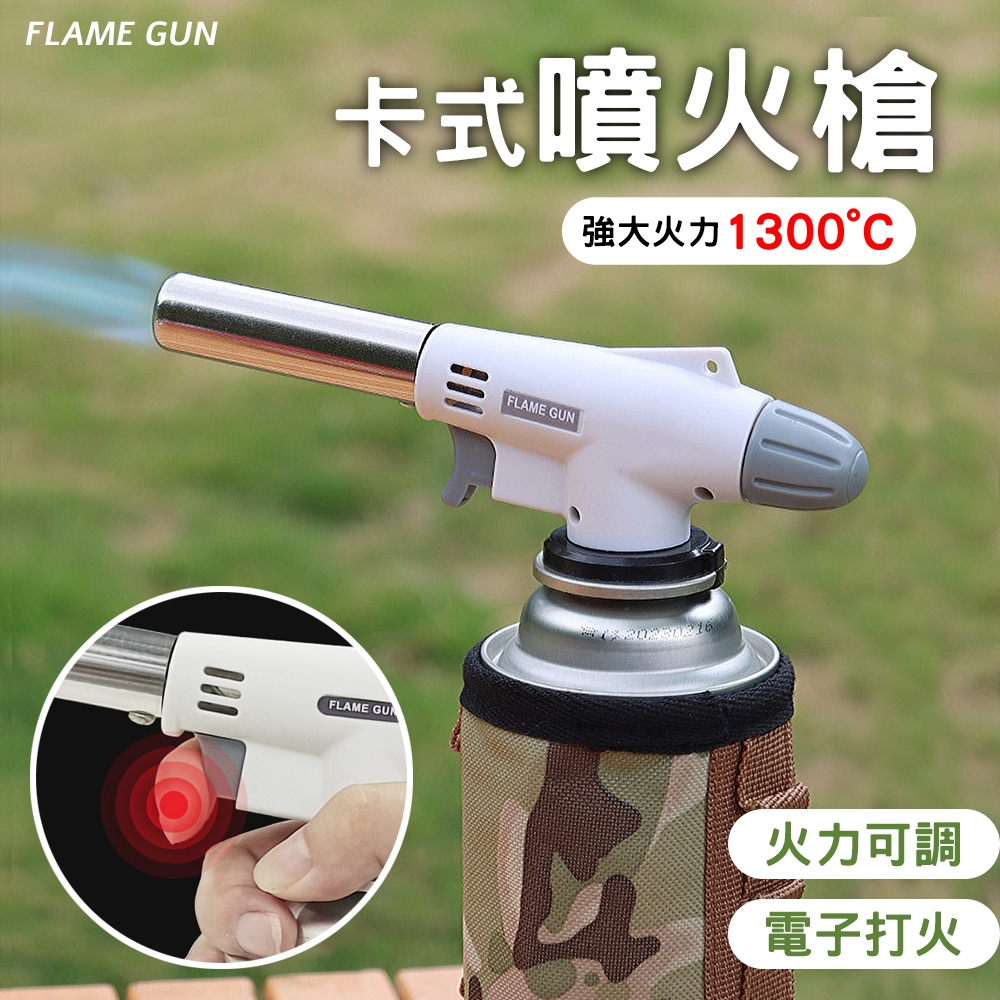gastorch: (147, 263, 871, 997)
